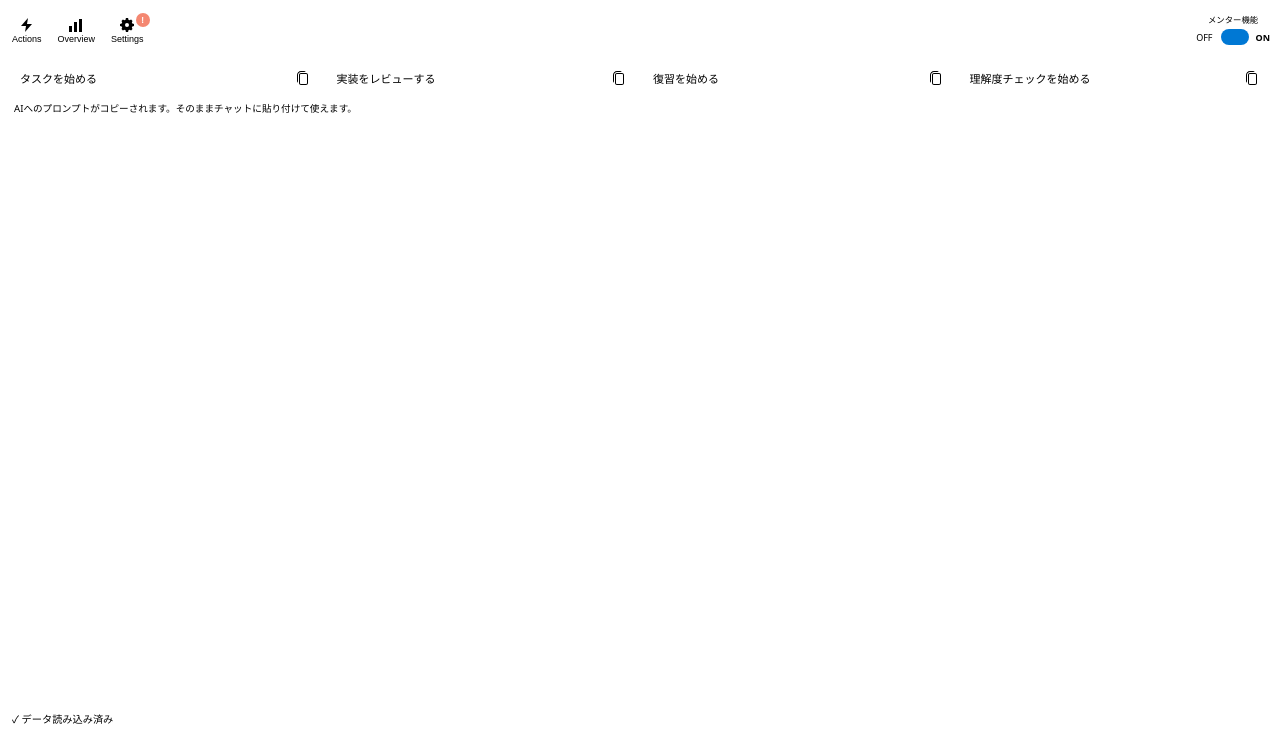
Scenario: App › shows delete error when deleteTopicsResult has failures
Click the tab "Overview". click: (76, 32)
box: [50, 12, 103, 52]
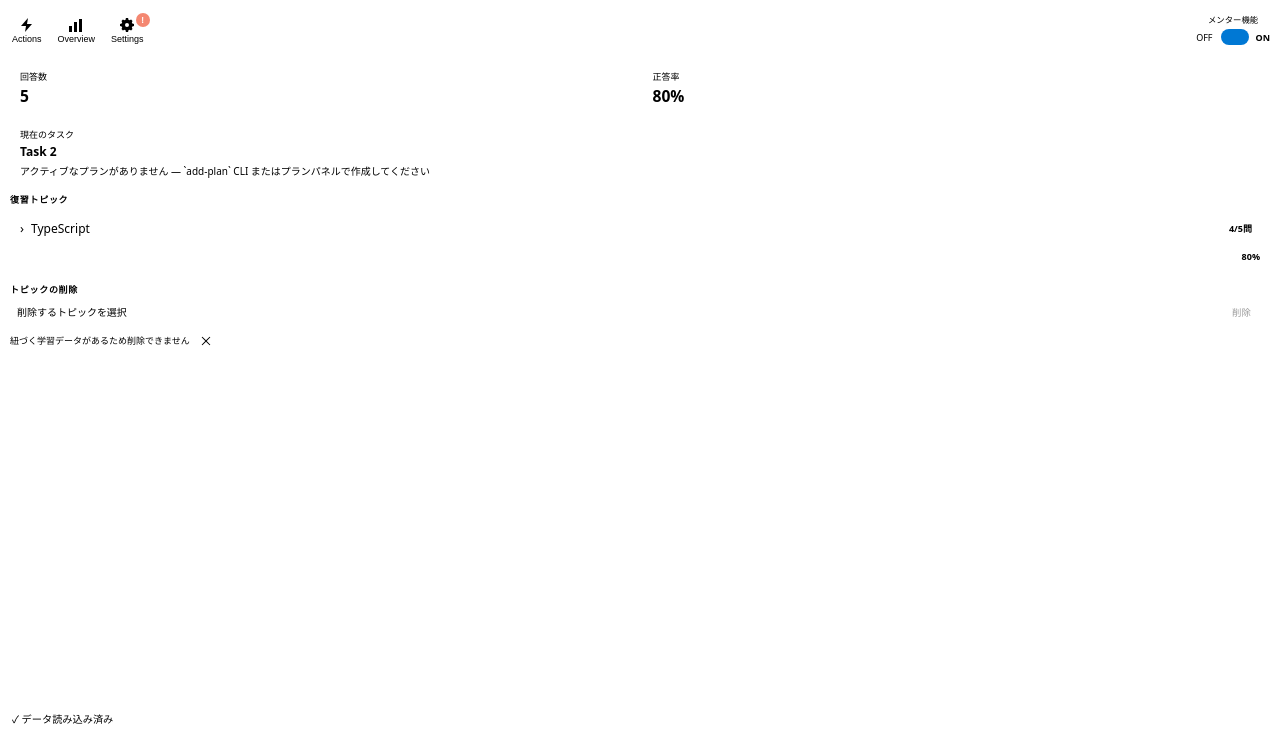
Result: the text "紐づく学習データがあるため削除できません" is shown at [10, 331, 216, 351]
